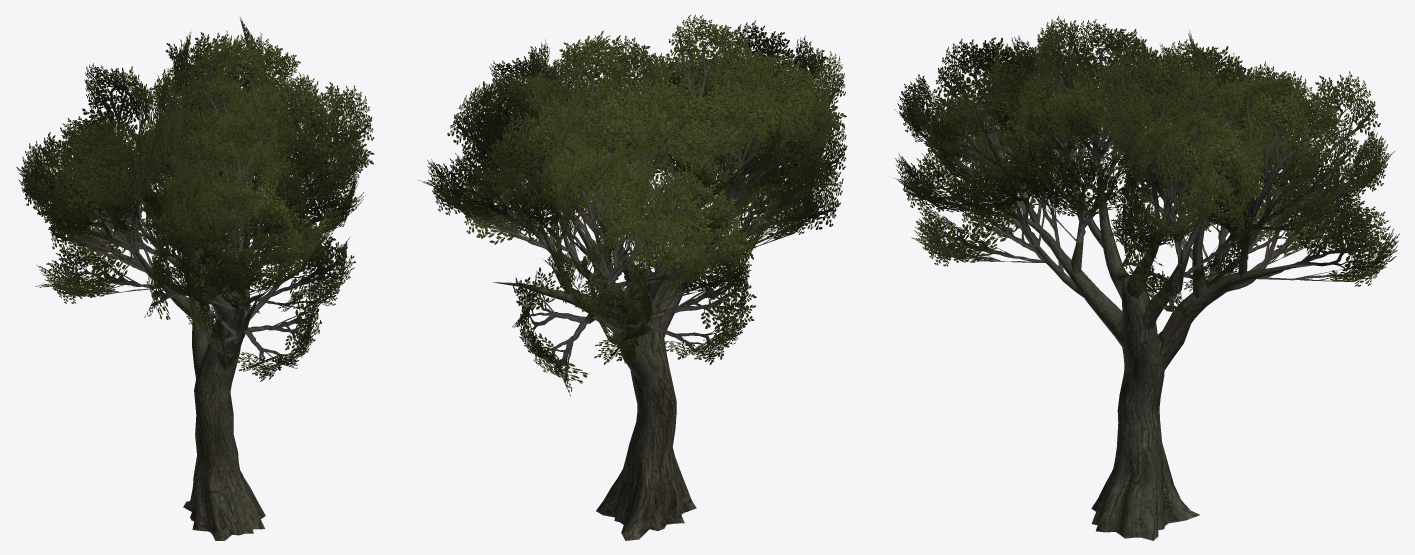
The model's file is Oak_01.fbx.
3 renders of one model, left to right at view 1: azimuth 30°, elevation 25°; view 2: azimuth 150°, elevation 25°; view 3: azimuth 270°, elevation 25°, orthographic. The views are drawn at different scales.
Parts seen in each view (by area): view 1: Oak_01; view 2: Oak_01; view 3: Oak_01.
Boxes of the visible parts, left/top/right/bottom form: Oak_01: left=16, top=17, right=374, bottom=540; Oak_01: left=418, top=14, right=847, bottom=540; Oak_01: left=894, top=15, right=1399, bottom=540.
Size of what is drawn, in the model's own units: 1553 by 2176 by 2034.
